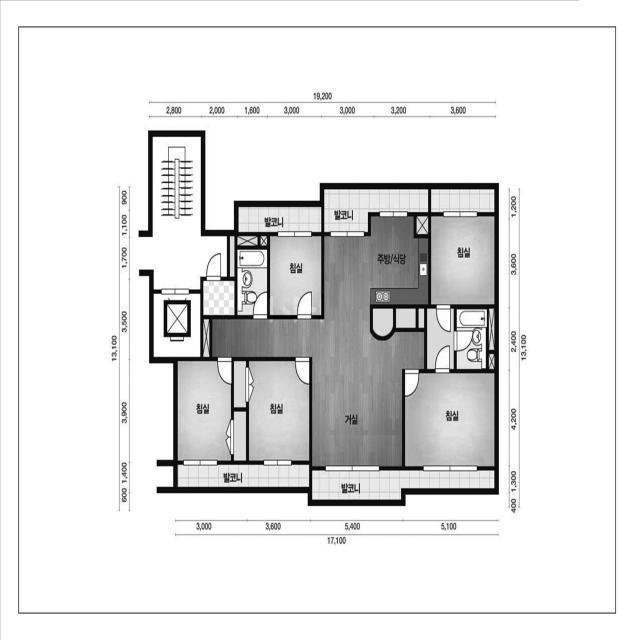space_balconi: (312, 470, 495, 500), (324, 189, 428, 232), (178, 465, 309, 487), (239, 207, 321, 232)
space_bedroom: (405, 374, 494, 466), (249, 361, 309, 461), (431, 216, 494, 305), (178, 361, 231, 461), (270, 236, 321, 315)
space_dressroom: (427, 309, 454, 369)
space_elevator: (153, 293, 201, 358)
space_front: (203, 281, 235, 315)
space_kitchen: (324, 216, 428, 319)
space_living_room: (212, 319, 424, 466)
space_other: (431, 189, 495, 212), (234, 411, 246, 461), (234, 361, 246, 408), (373, 309, 393, 337), (396, 308, 416, 328), (203, 319, 210, 357), (489, 308, 495, 350), (416, 216, 429, 235), (237, 236, 258, 246), (230, 236, 234, 277), (418, 308, 424, 328), (489, 354, 495, 369), (260, 236, 267, 246)
space_staircase: (139, 137, 227, 289)
space_toilet: (237, 250, 267, 315), (457, 309, 487, 369)
